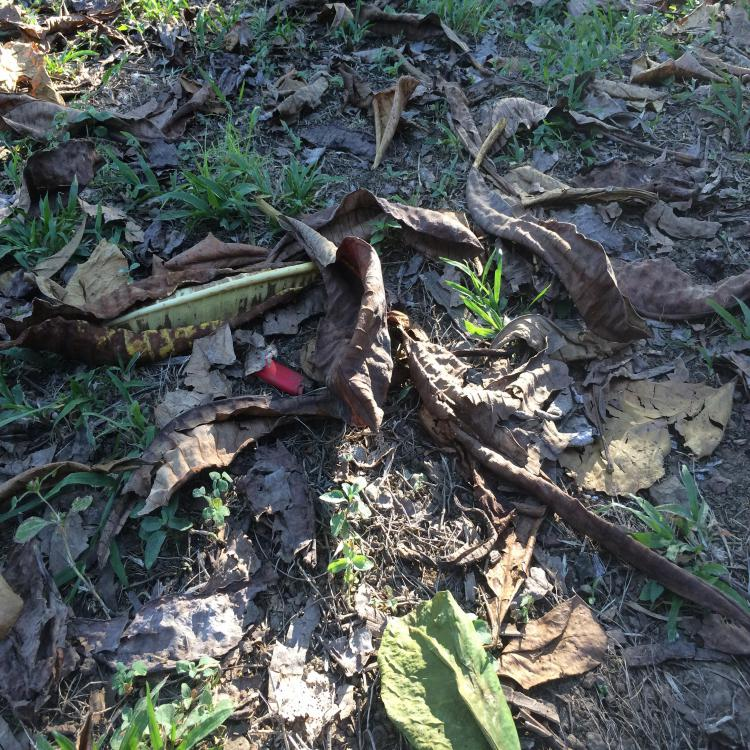Unlabeled litter: (252, 360, 313, 396)
